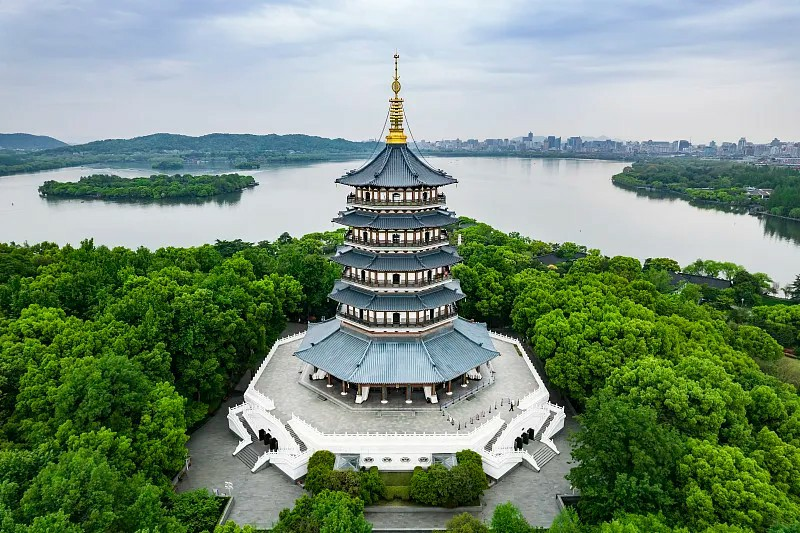Leifeng: (291, 46, 502, 409)
